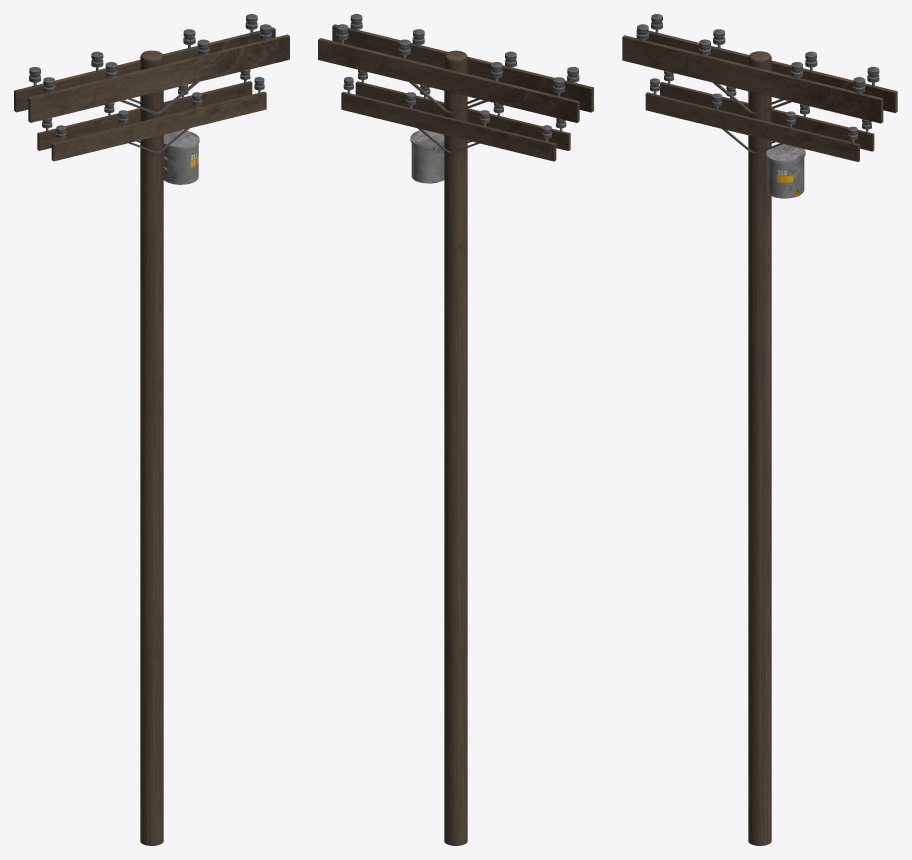
Rendered from pole.glb.
3 renders of one model, left to right at view 1: azimuth 30°, elevation 25°; view 2: azimuth 150°, elevation 25°; view 3: azimuth 330°, elevation 25°, orthographic.
Parts seen in each view (by area): view 1: pCylinder1, pCube1, pCube5, pCube6, pCube2, pCylinder18; view 2: pCylinder1, pCube2, pCube6, pCube1, pCube5, pCylinder18; view 3: pCylinder1, pCube1, pCube5, pCube6, pCube2, pCylinder18.
Part boxes in pixels (x1=…): pCylinder1: x1=140, y1=50, x2=163, y2=845; pCube1: x1=28, y1=34, x2=289, y2=122; pCube5: x1=51, y1=91, x2=266, y2=161; pCube6: x1=37, y1=81, x2=252, y2=150; pCube2: x1=14, y1=27, x2=275, y2=112; pCylinder18: x1=163, y1=130, x2=199, y2=184; pCylinder1: x1=444, y1=50, x2=467, y2=845; pCube2: x1=318, y1=38, x2=579, y2=122; pCube6: x1=341, y1=91, x2=556, y2=161; pCube1: x1=332, y1=24, x2=593, y2=112; pCube5: x1=355, y1=81, x2=570, y2=150; pCylinder18: x1=410, y1=129, x2=444, y2=183; pCylinder1: x1=748, y1=51, x2=771, y2=845; pCube1: x1=622, y1=35, x2=883, y2=123; pCube5: x1=645, y1=92, x2=859, y2=161; pCube6: x1=660, y1=82, x2=874, y2=151; pCube2: x1=636, y1=30, x2=897, y2=112; pCylinder18: x1=766, y1=144, x2=805, y2=198.
Bounding box in the file's own units: 0.1151 × 0.3373 × 0.0165.
Materials: 4 (4 with a texture image).
